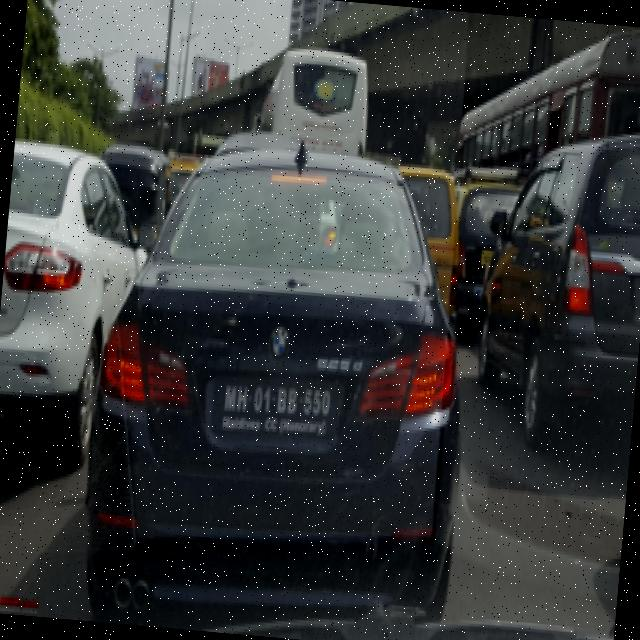Autre: (215, 381, 345, 444)
